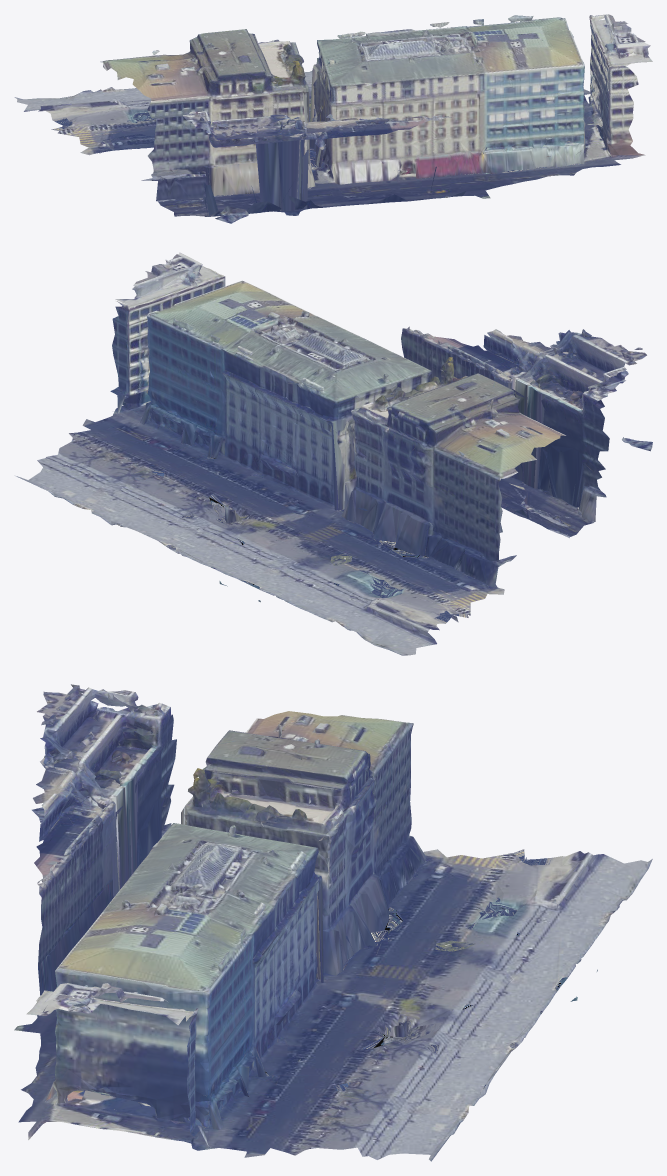
3 views of the same model, one above another, from view 1: azimuth 30°, elevation 25°; view 2: azimuth 150°, elevation 25°; view 3: azimuth 270°, elevation 25° (orthographic). The views are drawn at different scales.
Size of the model in its own units: 107 by 29.84 by 93.02.
1 material, 1 textured.
